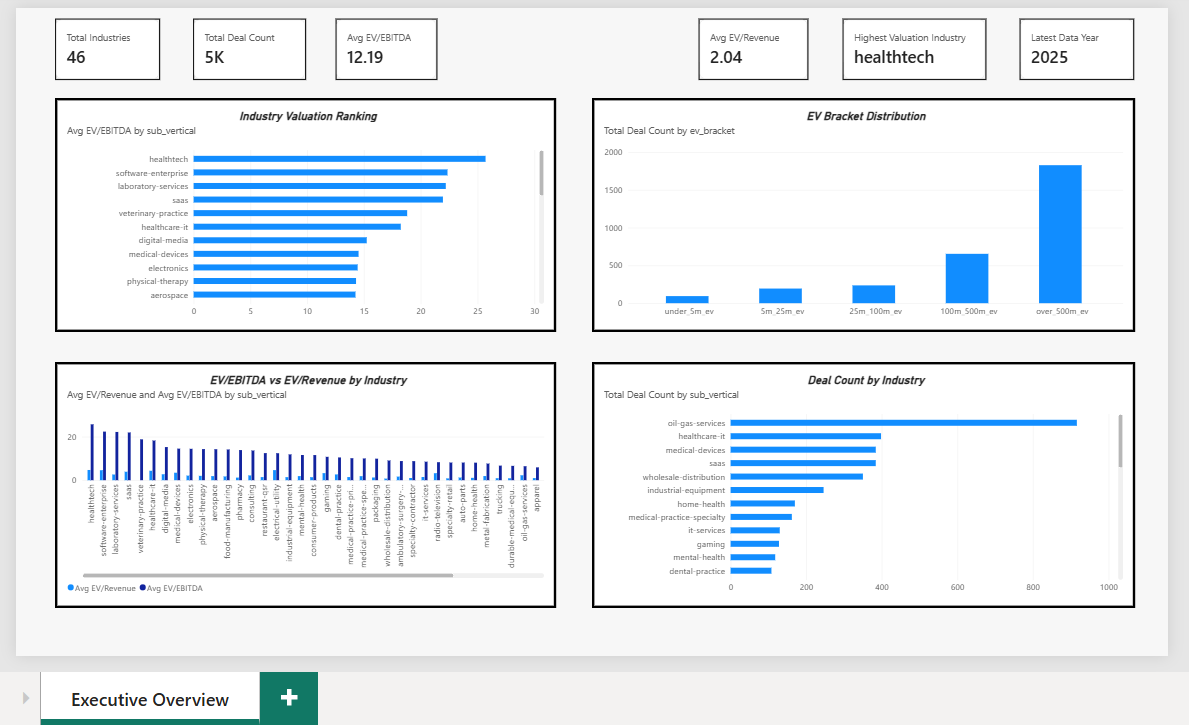

What the dashboard file says about the page in this screenshot:
{"tool":"powerbi","page":{"name":"Executive Overview","canvas":[1920,1080],"ordinal":0},"visuals":[{"type":"cardVisual","fields":{"Data":["_Measures.Total Industries"]},"box":[65,17.5,175.2,102.4],"z":0},{"type":"cardVisual","fields":{"Data":["_Measures.Total Deal Count"]},"box":[295,17.5,188.7,102.4],"z":1},{"type":"cardVisual","fields":{"Data":["_Measures.Avg EV/EBITDA"]},"box":[532.5,17.5,169.8,102.4],"z":2},{"type":"cardVisual","fields":{"Data":["_Measures.Avg EV/Revenue"]},"box":[1137.5,17.5,183.3,102.4],"z":3},{"type":"cardVisual","fields":{"Data":["_Measures.Highest Valuation Industry"]},"box":[1377.5,17.5,239.9,102.4],"z":4},{"type":"cardVisual","fields":{"Data":["_Measures.Latest Data Year"]},"box":[1672.5,17.5,191.4,102.4],"z":5},{"type":"clusteredBarChart","title":"Industry Valuation Ranking","fields":{"Category":["DimIndustry.sub_vertical"],"Y":["_Measures.Avg EV/EBITDA"]},"box":[65,150,835,390],"z":6},{"type":"clusteredColumnChart","title":"EV Bracket Distribution","fields":{"Category":["DimEVBracket.ev_bracket"],"Y":["_Measures.Total Deal Count"]},"box":[960,150,905,390],"z":7},{"type":"clusteredColumnChart","title":"EV/EBITDA vs EV/Revenue by Industry","fields":{"Category":["DimIndustry.sub_vertical"],"Y":["_Measures.Avg EV/Revenue","_Measures.Avg EV/EBITDA"]},"box":[65,590,835,410],"z":8},{"type":"clusteredBarChart","title":"Deal Count by Industry","fields":{"Category":["DimIndustry.sub_vertical"],"Y":["_Measures.Total Deal Count"]},"box":[960,590,905,410],"z":9}]}

Visuals, with their boxes in screenshot pixels (x1, y1, x2, y2):
cardVisual - _Measures.Total Industries: {"left": 60, "top": 20, "right": 163, "bottom": 80}
cardVisual - _Measures.Total Deal Count: {"left": 195, "top": 20, "right": 307, "bottom": 80}
cardVisual - _Measures.Avg EV/EBITDA: {"left": 335, "top": 20, "right": 435, "bottom": 80}
cardVisual - _Measures.Avg EV/Revenue: {"left": 692, "top": 20, "right": 800, "bottom": 80}
cardVisual - _Measures.Highest Valuation Industry: {"left": 833, "top": 20, "right": 974, "bottom": 80}
cardVisual - _Measures.Latest Data Year: {"left": 1007, "top": 20, "right": 1120, "bottom": 80}
"Industry Valuation Ranking" clusteredBarChart: {"left": 60, "top": 98, "right": 552, "bottom": 327}
"EV Bracket Distribution" clusteredColumnChart: {"left": 587, "top": 98, "right": 1120, "bottom": 327}
"EV/EBITDA vs EV/Revenue by Industry" clusteredColumnChart: {"left": 60, "top": 357, "right": 552, "bottom": 598}
"Deal Count by Industry" clusteredBarChart: {"left": 587, "top": 357, "right": 1120, "bottom": 598}
